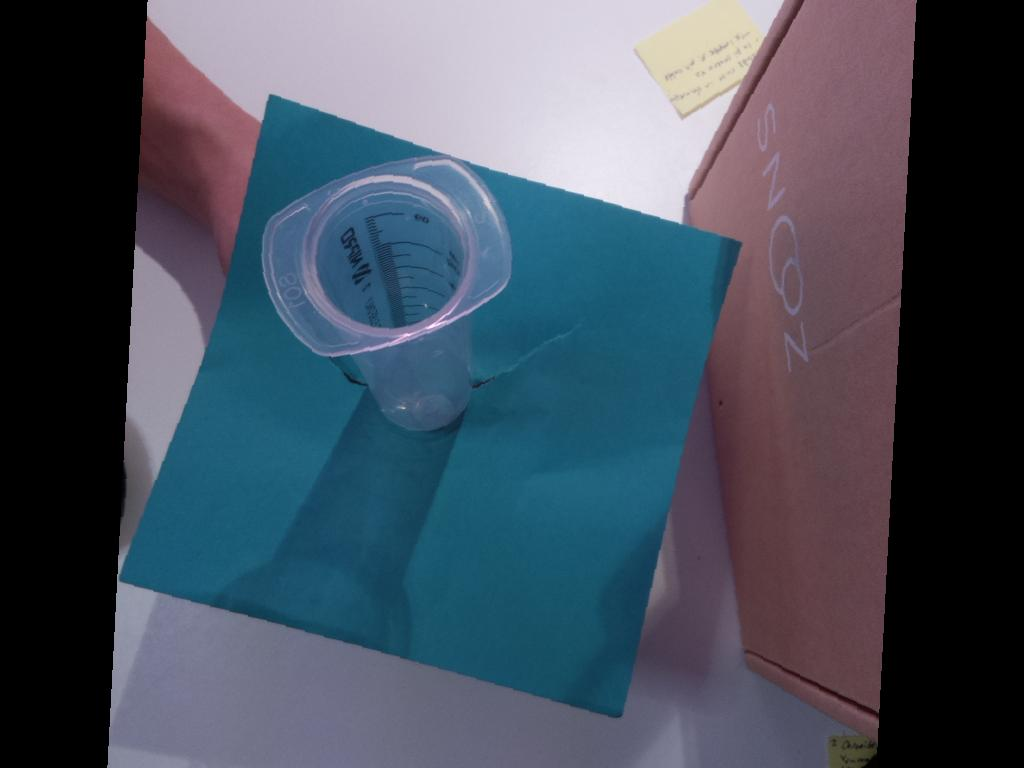clean: (261, 153, 512, 356)
